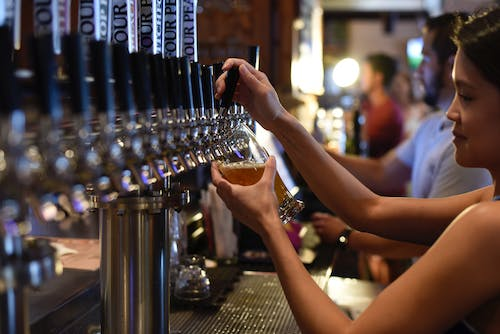alcohol: (209, 121, 306, 226)
